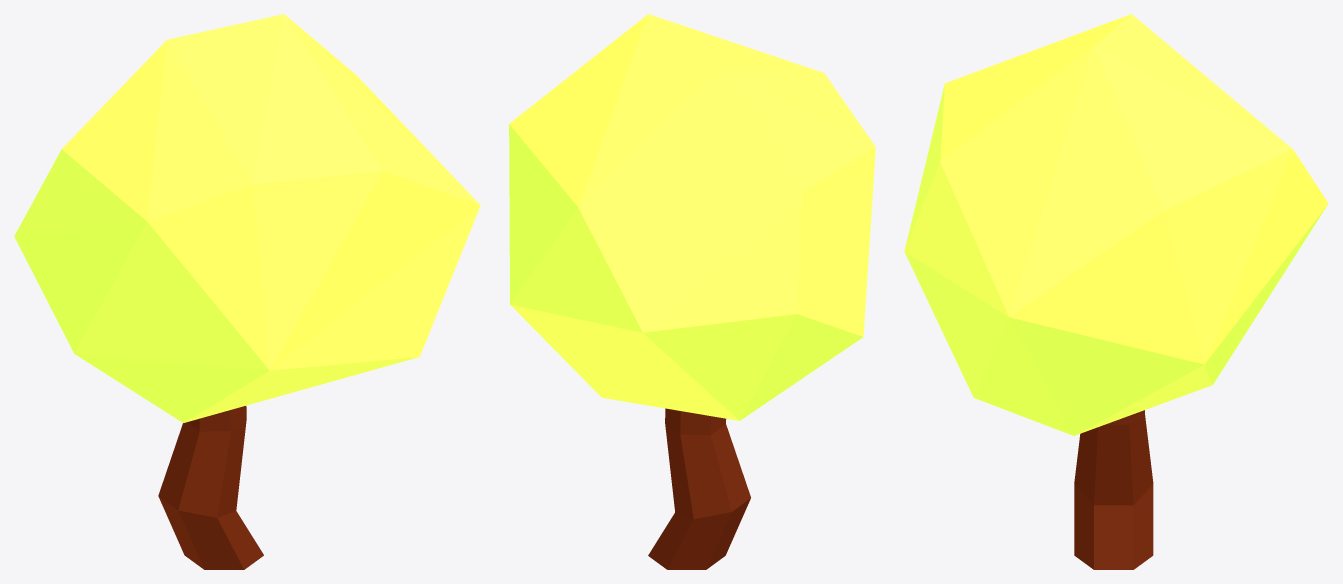
File: bush1.glb
The picture shows the model from 3 angles, left to right: view 1: azimuth 30°, elevation 25°; view 2: azimuth 150°, elevation 25°; view 3: azimuth 270°, elevation 25°; orthographic projection. The views are drawn at different scales.
Visible parts, largest first — view 1: Bush1; view 2: Bush1; view 3: Bush1.
Part boxes in pixels (box(x1,y1,x2,y2)): Bush1: box(14, 14, 480, 569); Bush1: box(509, 14, 875, 569); Bush1: box(904, 14, 1328, 569).
Bounding box in the file's own units: 107 × 149 × 107.
